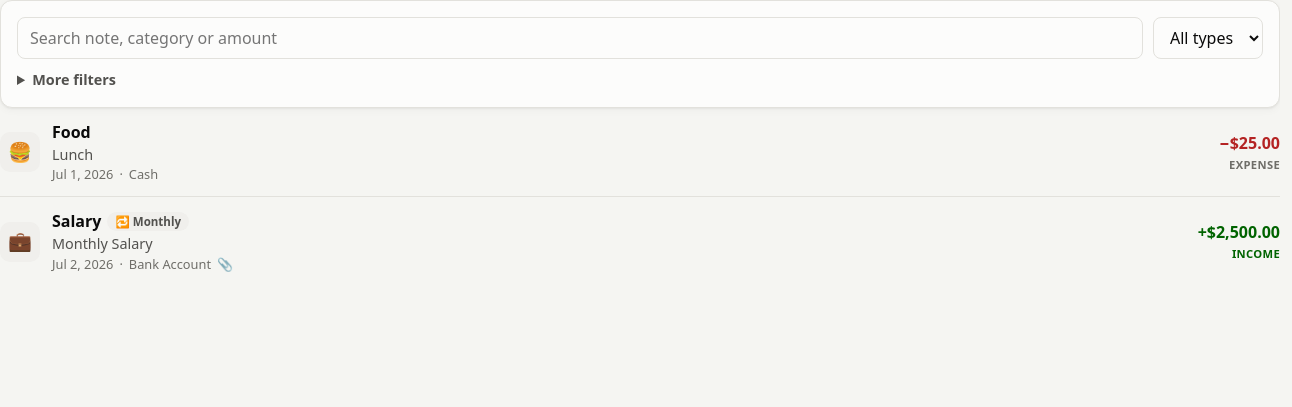
Test: TransactionFilters › combines filters and emits the full filter object
expect the number of list items is 2: met, box [0,108,1280,197]; [0,197,1280,286]
Select "Expense" in the dropdown named "Type" at (1208, 38), box [1153,17,1263,59]
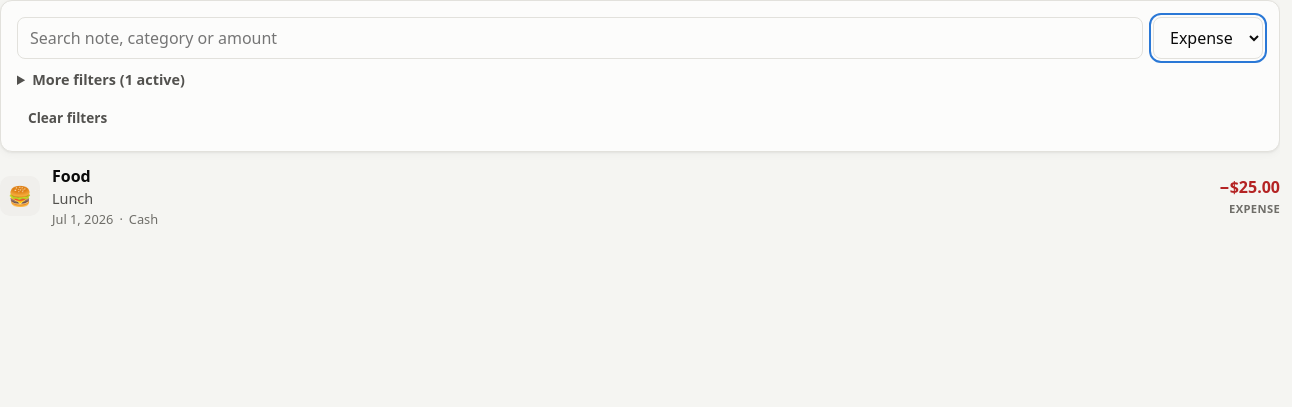
expect the text "Lunch" is shown: met, box [52,189,93,208]
expect the number of list items is 1: met, box [0,152,1280,241]
Click the heading "More filters (1 active)".
click(109, 80)  # box [32,70,185,89]
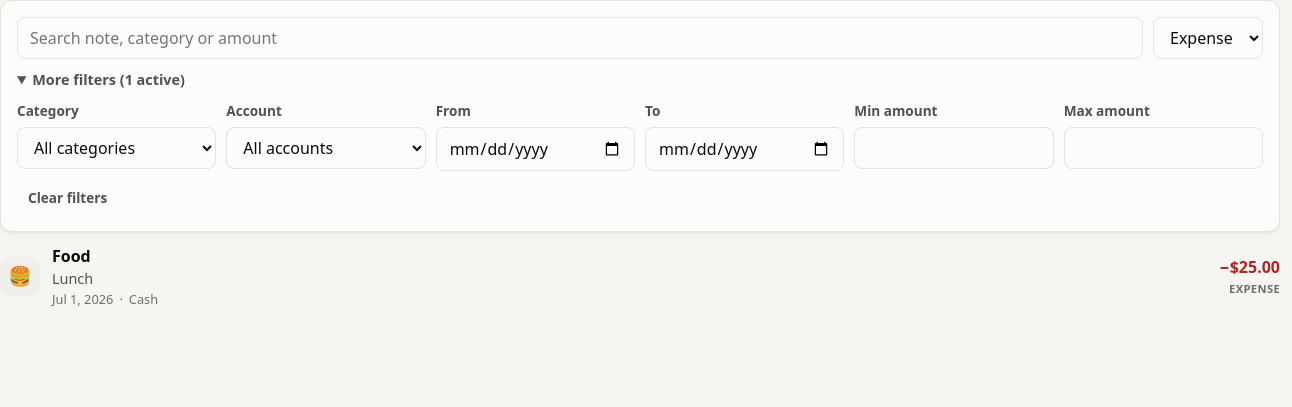
Select "Bank Account" in the dropdown labelled "Account" at (326, 148), box [226,127,426,169]
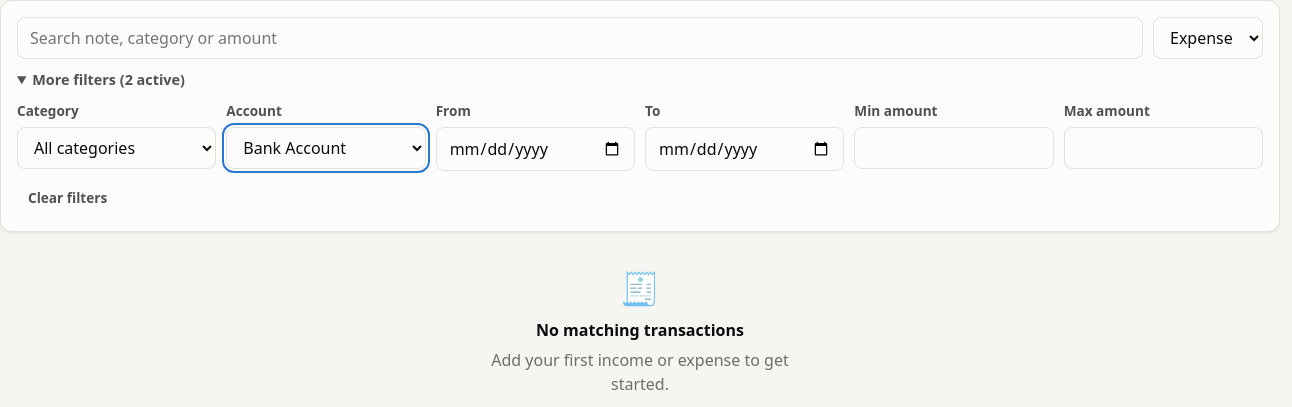
expect the heading "No matching transactions" is shown: met, box [536,320,744,340]
